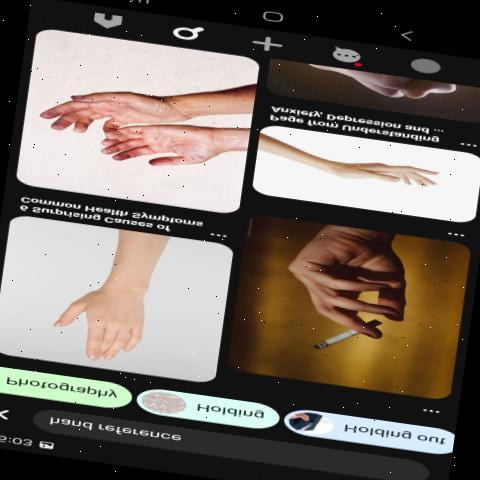Hands: (259, 234, 429, 346), (24, 60, 220, 136), (46, 260, 173, 366), (292, 150, 460, 214), (91, 118, 248, 184)
